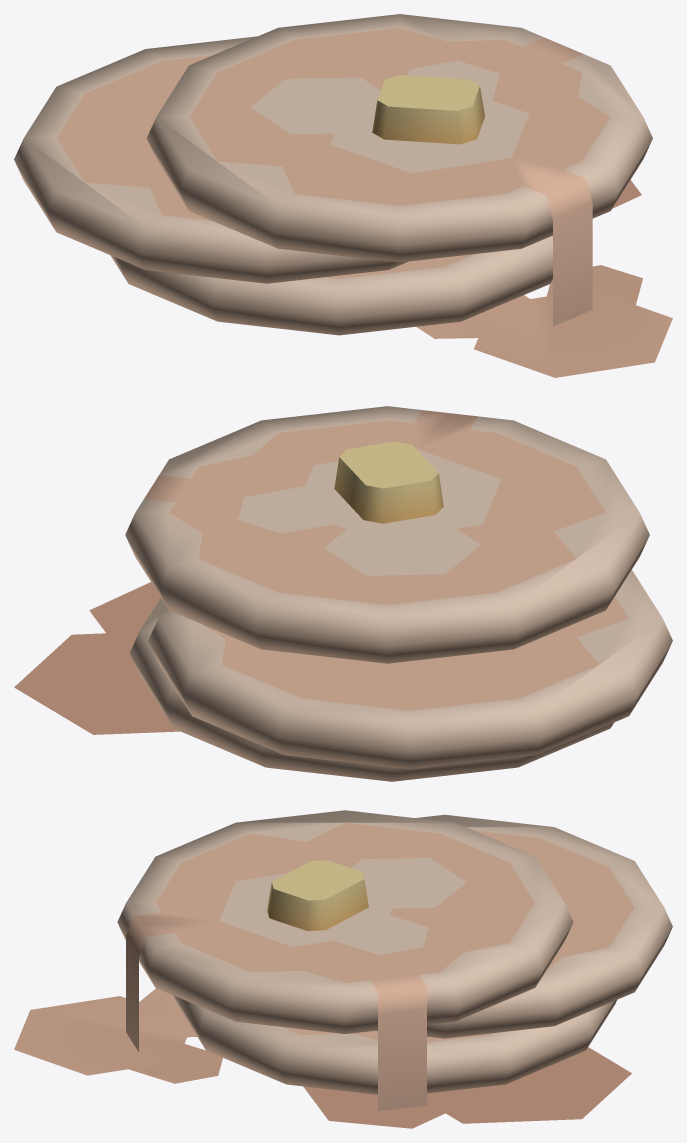
The model's file is pancakes.glb.
The picture shows the model from 3 angles, top to bottom: view 1: azimuth 30°, elevation 25°; view 2: azimuth 150°, elevation 25°; view 3: azimuth 270°, elevation 25°; orthographic projection. The views are drawn at different scales.
Visible parts, largest first — view 1: pancakes; view 2: pancakes; view 3: pancakes.
Boxes of the visible parts, bbox=[...] form: pancakes: bbox=[14, 14, 672, 377]; pancakes: bbox=[14, 406, 672, 781]; pancakes: bbox=[14, 810, 672, 1128].
Size of the model in its own units: 0.4355 by 0.1216 by 0.5039.
